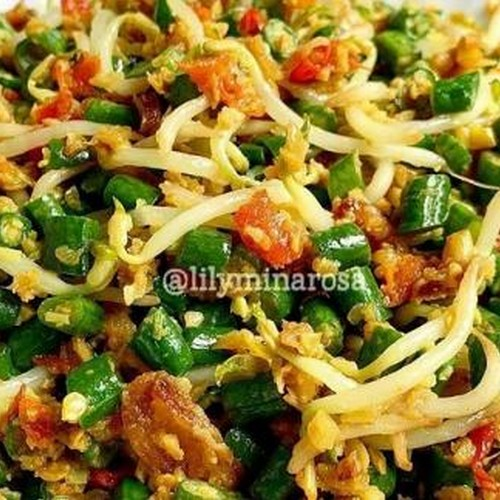lawar: (4, 4, 499, 258)
